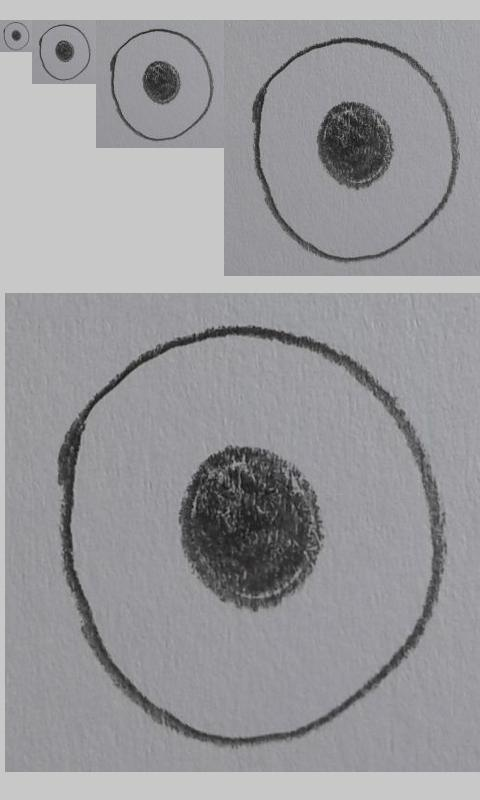radio_button: (57, 325, 448, 750), (249, 33, 460, 266), (109, 28, 215, 142), (38, 23, 91, 82), (2, 21, 30, 51)
